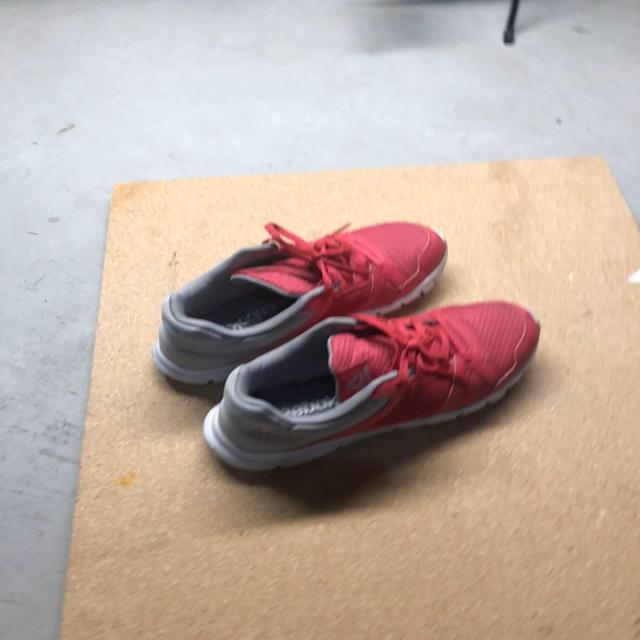shoe: (219, 302, 540, 462), (157, 222, 449, 390)
